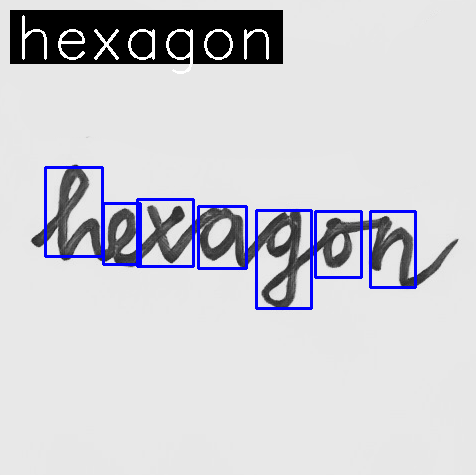a: (193, 205, 249, 267)
e: (104, 204, 139, 270)
g: (256, 206, 306, 313)
h: (55, 163, 103, 263)
n: (364, 215, 418, 291)
o: (319, 217, 356, 271)
x: (140, 202, 189, 265)
